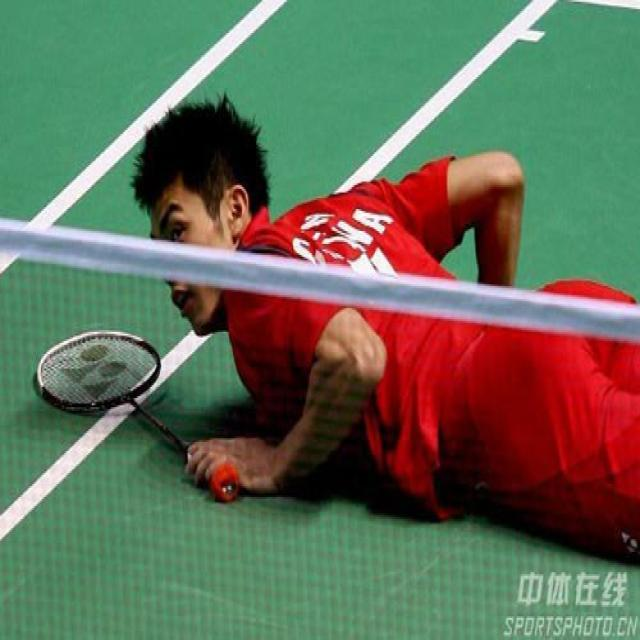fall: (133, 118, 631, 546)
